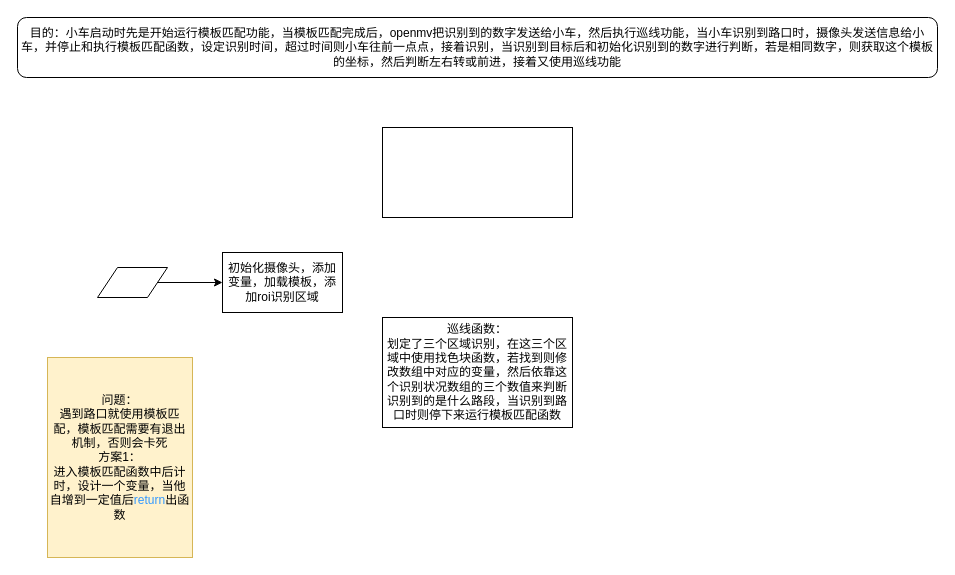
Image size: 955x575. Some labels were removed from this diagram. The shapes that lost their labels are listed below. From the top down, each one's centre as x and y in pixels, then its label:
[477,172]: 模板匹配函数: for x in template： 对每个模板都进行遍历，然后进行模板匹配，如果匹配上了则返回对应数字和对应的x中心坐标
[132,282]: 程序
